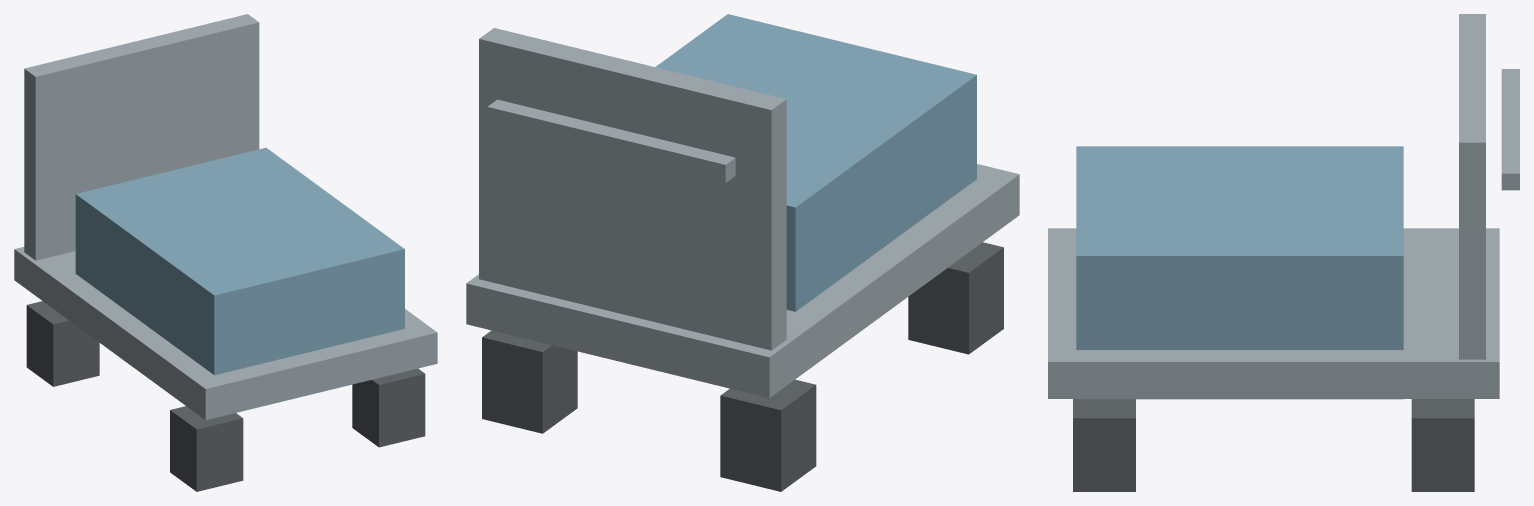
The model's file is picking_cart_lod1.glb.
3 renders of one model, left to right at view 1: azimuth 30°, elevation 25°; view 2: azimuth 150°, elevation 25°; view 3: azimuth 270°, elevation 25°, orthographic. The views are drawn at different scales.
Parts seen in each view (by area): view 1: picking-cart-node-7, picking-cart-node-1, picking-cart-node-0, picking-cart-node-3, picking-cart-node-5, picking-cart-node-2; view 2: picking-cart-node-1, picking-cart-node-7, picking-cart-node-0, picking-cart-node-2, picking-cart-node-4, picking-cart-node-3, picking-cart-node-6; view 3: picking-cart-node-7, picking-cart-node-0, picking-cart-node-1, picking-cart-node-4, picking-cart-node-5, picking-cart-node-6.
Part boxes in pixels (x1,y1,x2,y2): picking-cart-node-7: [75, 147, 404, 375]; picking-cart-node-1: [24, 14, 259, 260]; picking-cart-node-0: [14, 247, 437, 420]; picking-cart-node-3: [170, 406, 243, 491]; picking-cart-node-5: [352, 368, 425, 447]; picking-cart-node-2: [26, 301, 99, 386]; picking-cart-node-1: [479, 28, 786, 350]; picking-cart-node-7: [655, 14, 976, 311]; picking-cart-node-0: [466, 164, 1019, 398]; picking-cart-node-2: [720, 379, 816, 491]; picking-cart-node-4: [482, 330, 577, 433]; picking-cart-node-3: [908, 242, 1003, 354]; picking-cart-node-6: [487, 99, 735, 182]; picking-cart-node-7: [1076, 146, 1403, 399]; picking-cart-node-0: [1048, 228, 1499, 398]; picking-cart-node-1: [1459, 14, 1485, 359]; picking-cart-node-4: [1411, 399, 1474, 491]; picking-cart-node-5: [1073, 399, 1135, 491]; picking-cart-node-6: [1501, 69, 1519, 190].
Bounding box in the file's own units: 1.4 × 1.7 × 2.09.
